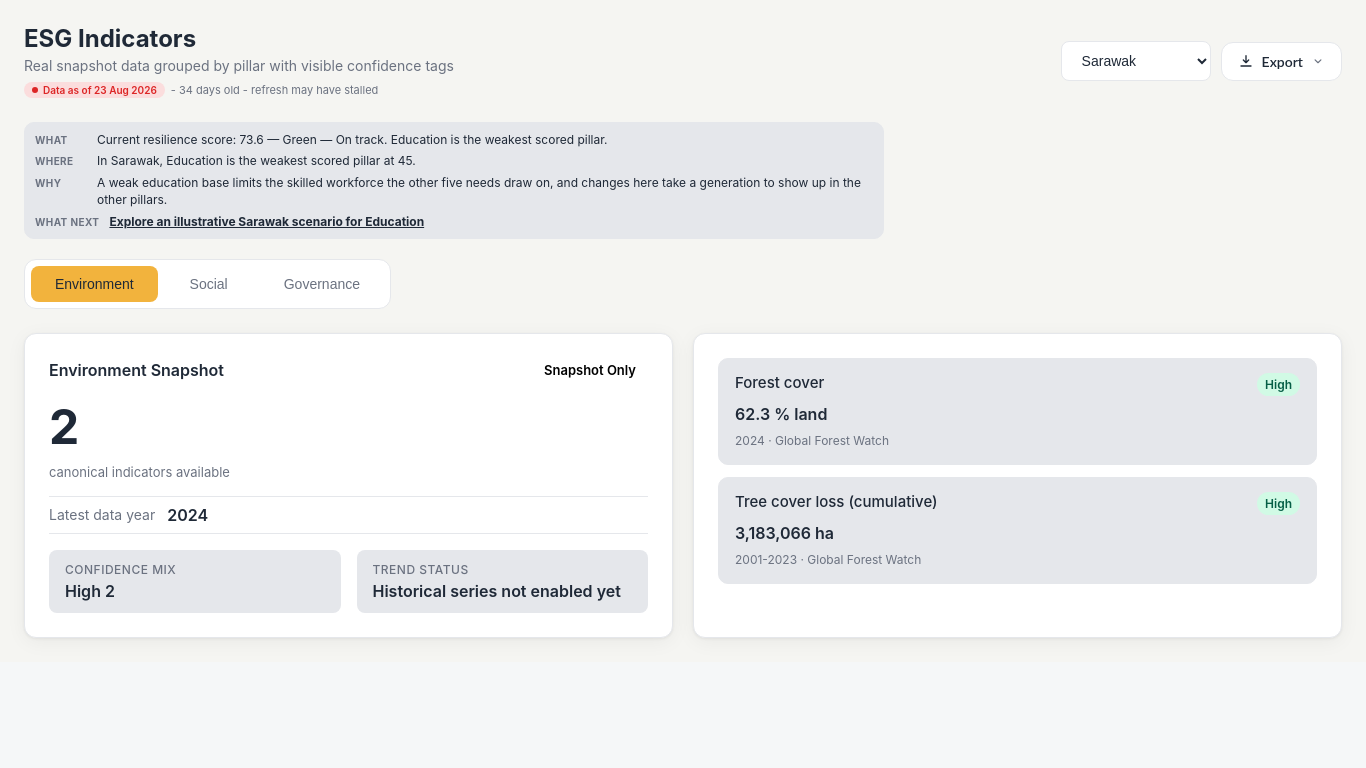
Scenario: ESG Indicators page › changes the scope when the category tab or the region changes
Click the button "Governance" at (322, 284), box [260, 266, 384, 302]
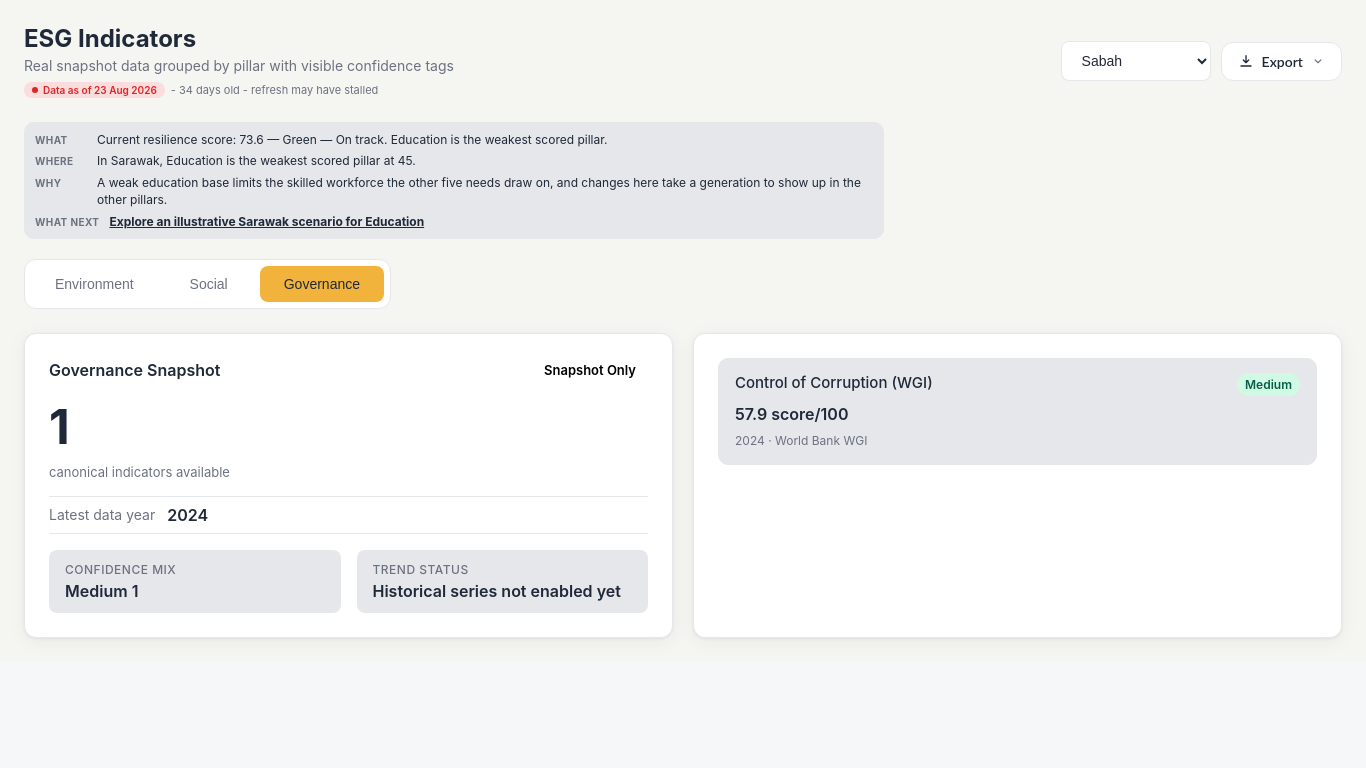
Expected: the text "Control of Corruption (WGI)" is shown, [735, 373, 933, 392]
Expected: the text "Tree cover loss" is gone
Select "Sabah" in the dropdown at (1136, 61), box [1061, 41, 1211, 81]
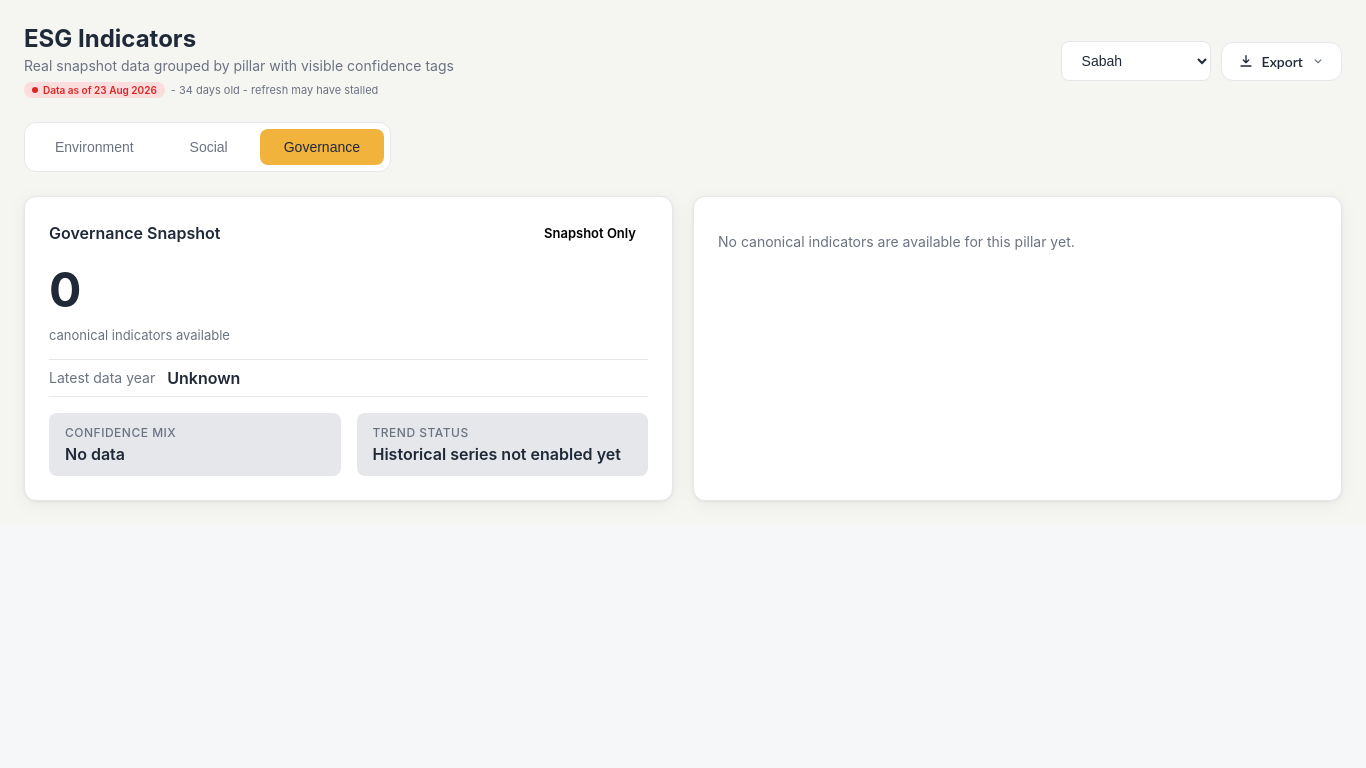
Expected: the text "No canonical indicators" is shown, [718, 233, 1075, 250]
